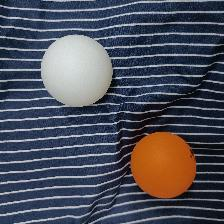WhiteBall: (40, 34, 113, 106)
YellowBall: (130, 131, 196, 198)
